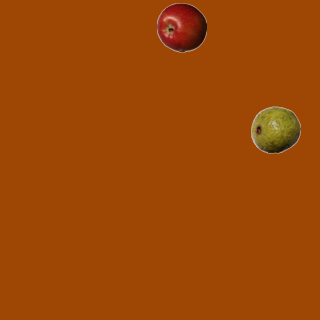Apple Braeburn: (156, 2, 206, 52)
Guava: (250, 104, 300, 154)
